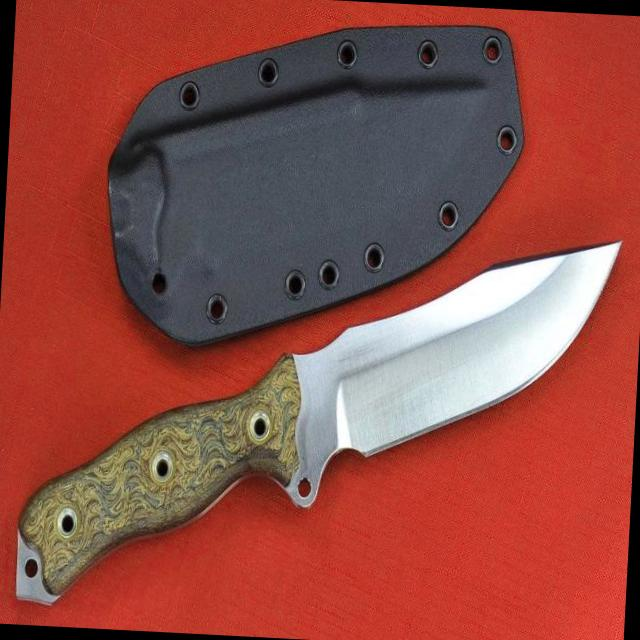Knife: (17, 244, 619, 603)
